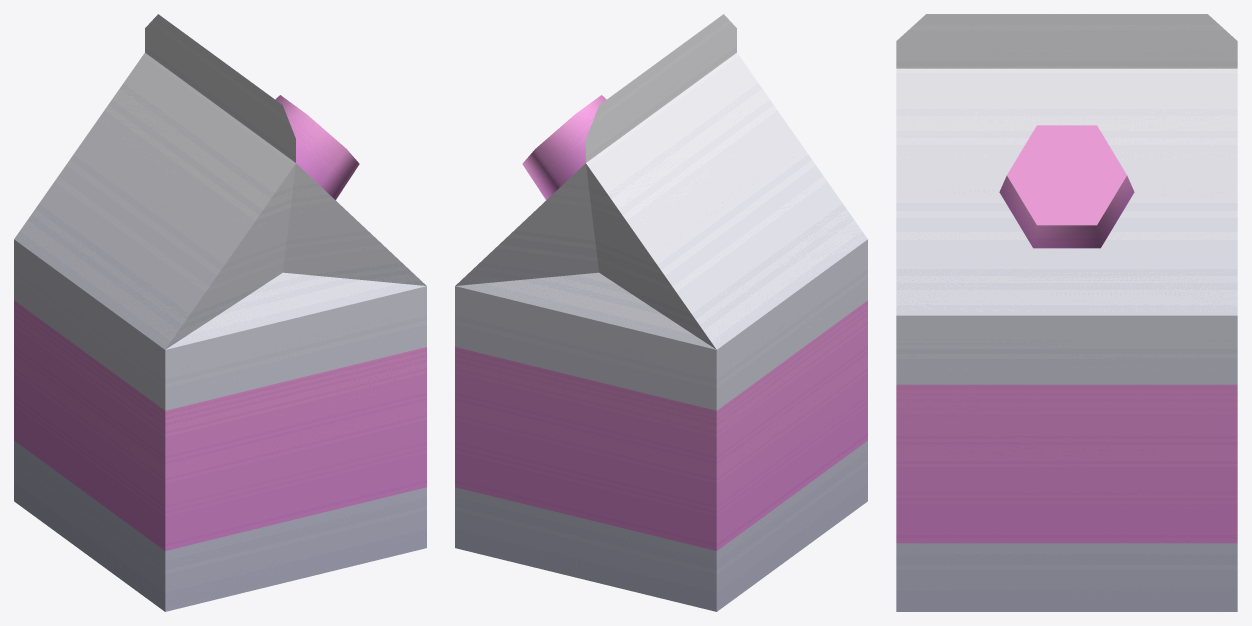
Rendered from carton-small.glb.
3 renders of one model, left to right at view 1: azimuth 30°, elevation 25°; view 2: azimuth 150°, elevation 25°; view 3: azimuth 270°, elevation 25°, orthographic. The views are drawn at different scales.
Parts seen in each view (by area): view 1: carton-small; view 2: carton-small; view 3: carton-small.
Part boxes in pixels (<box>): carton-small: <box>14,14,426,611</box>; carton-small: <box>455,14,867,611</box>; carton-small: <box>896,14,1237,611</box>.
Size of the model in its own units: 0.23 by 0.3905 by 0.23.
1 material, 1 textured.
